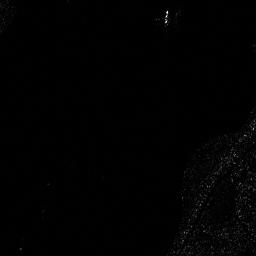ship: (163, 9, 170, 25)
